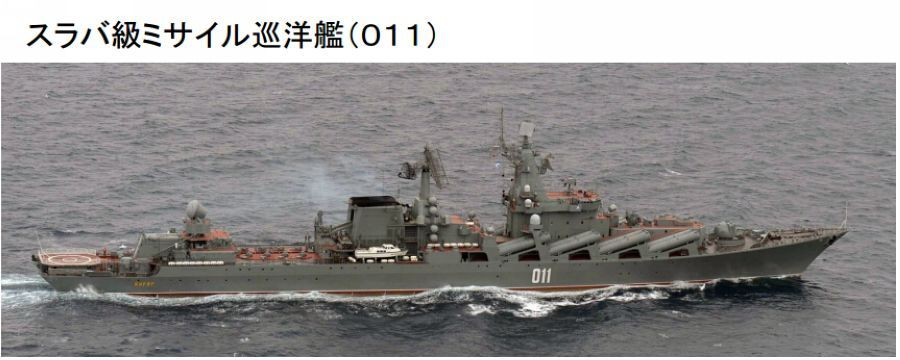warship: (24, 117, 850, 312)
